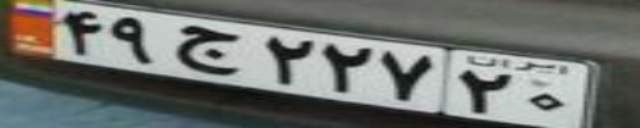0: (524, 92, 566, 113)
2: (263, 34, 317, 84), (320, 42, 373, 92), (457, 69, 514, 114)
4: (63, 10, 101, 57)
7: (380, 50, 432, 101)
9: (108, 15, 149, 64)
jim: (176, 24, 243, 76)
